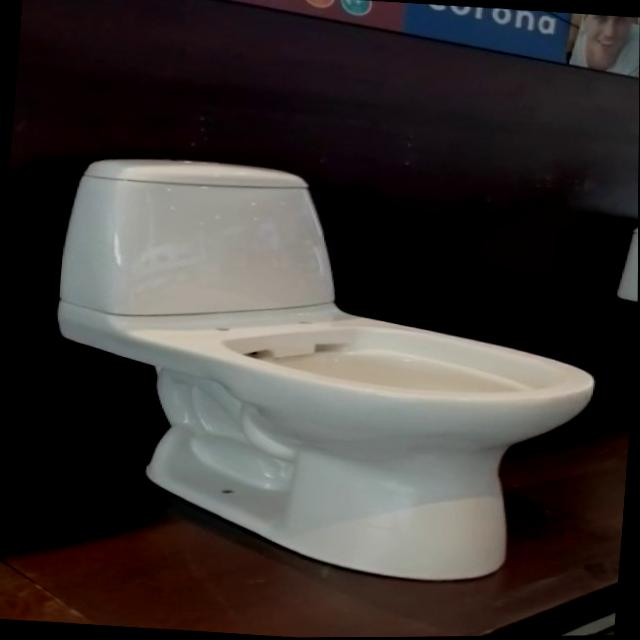toilet: (36, 147, 611, 593)
